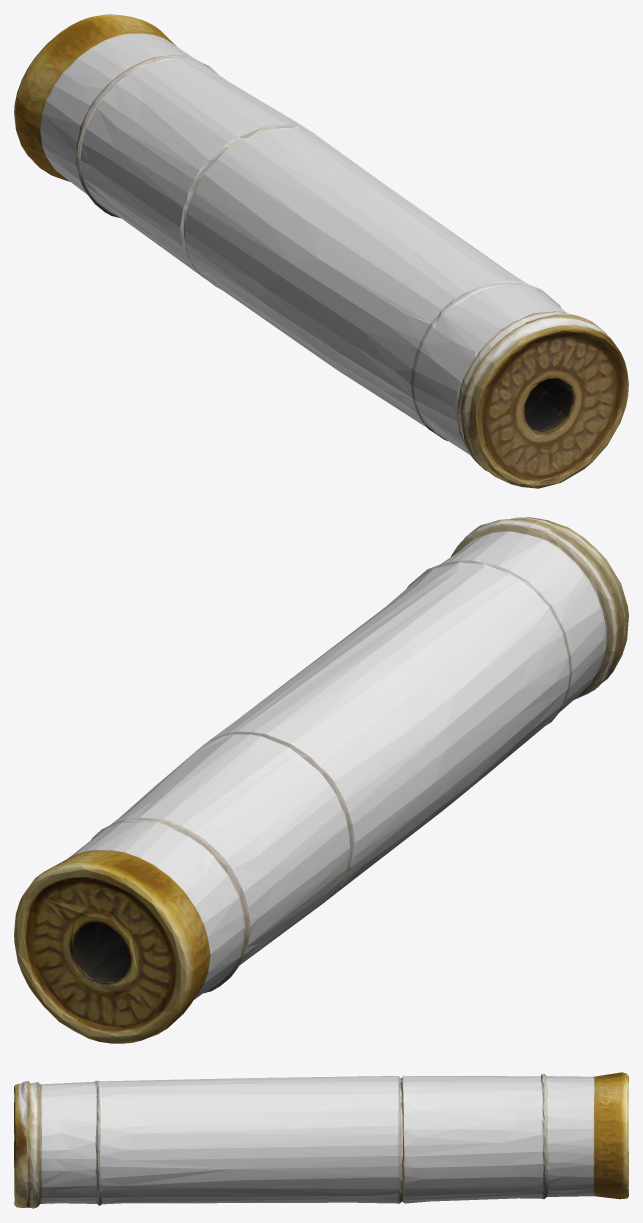
Rendered from white_suppressor.glb.
3 renders of one model, top to bottom at view 1: azimuth 30°, elevation 25°; view 2: azimuth 150°, elevation 25°; view 3: azimuth 270°, elevation 25°, orthographic. The views are drawn at different scales.
Parts seen in each view (by area): view 1: geometry_0; view 2: geometry_0; view 3: geometry_0.
Part boxes in pixels (box(x1,y1,x2,y2)): geometry_0: box(14, 14, 628, 488); geometry_0: box(14, 517, 628, 1043); geometry_0: box(14, 1072, 628, 1208).
Size of the model in its own units: 0.25 by 0.209 by 1.
Materials: 1 (1 with a texture image).
